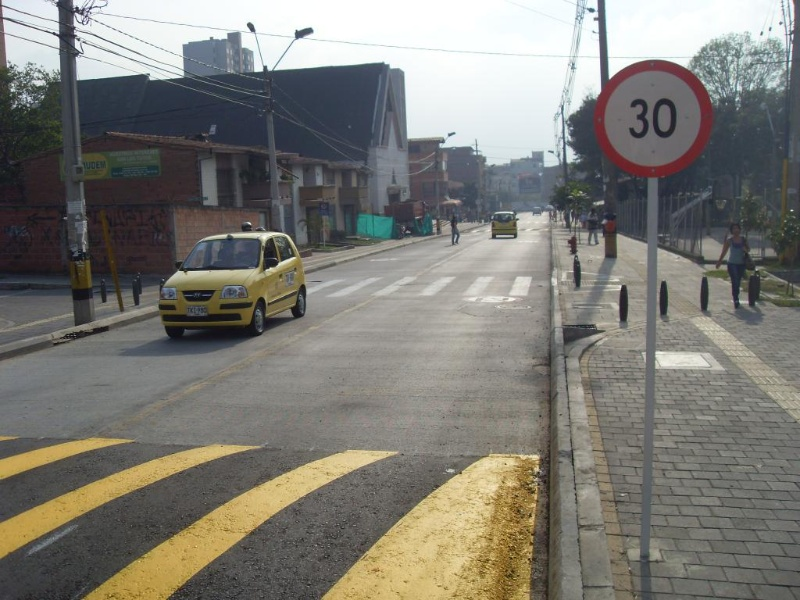speed_limit_30: (601, 63, 709, 175)
